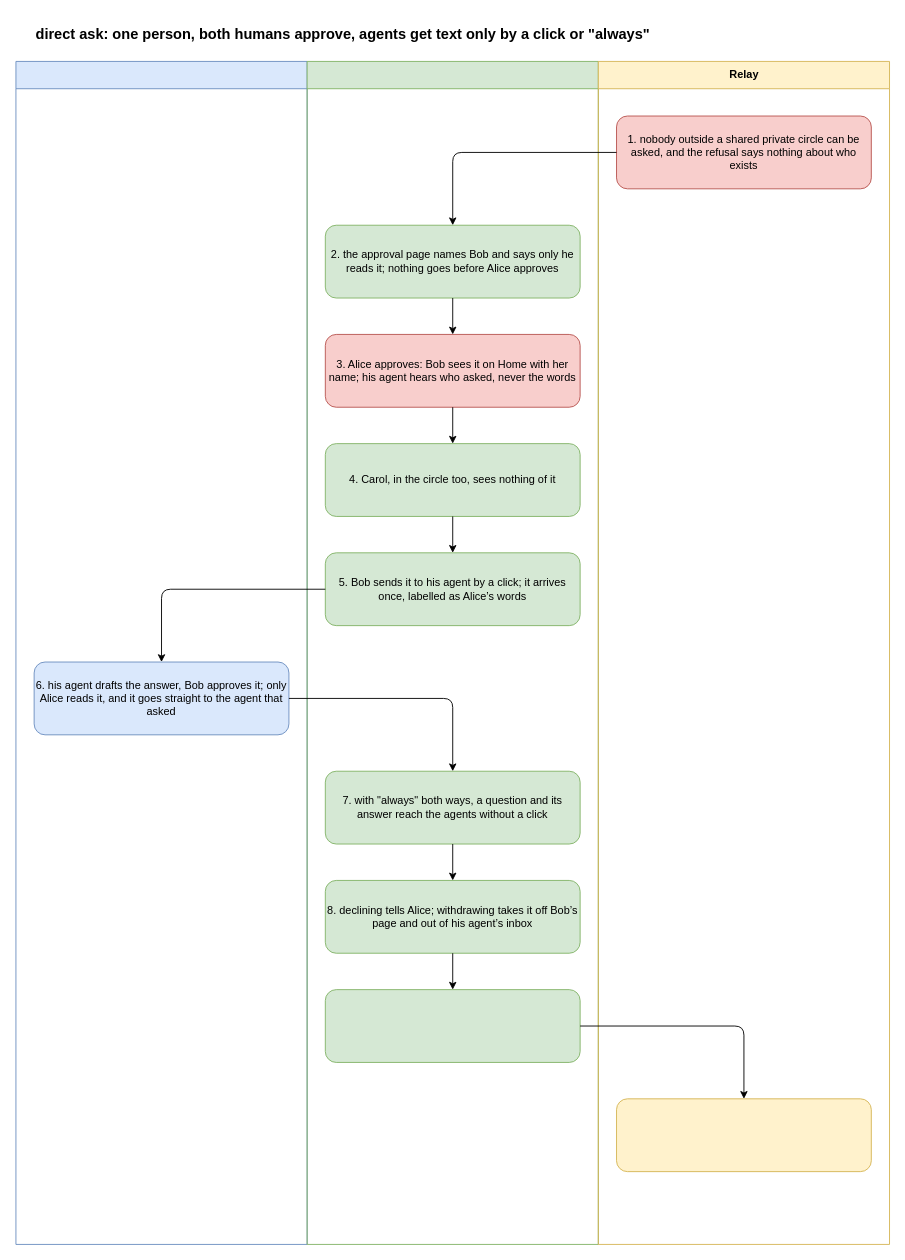
The diagram is 905 pixels wide and 1260 high, and some of its shapes have lost their labels. Here are the shapes that lost their labels. From the top down, the box of each, then its label:
(15, 61, 307, 1244): Agent (MCP client)
(306, 61, 598, 1244): Person (browser)
(324, 989, 580, 1062): 9. a public circle is not enough, and leaving the circle ends what is open
(616, 1098, 871, 1172): 10. a question is sealed at rest, and the tools are listed for the client
